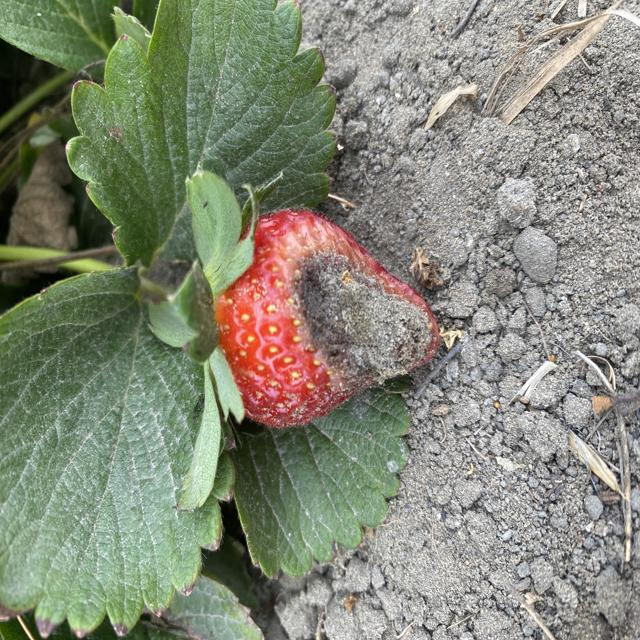Botrytis: (211, 205, 440, 429)
